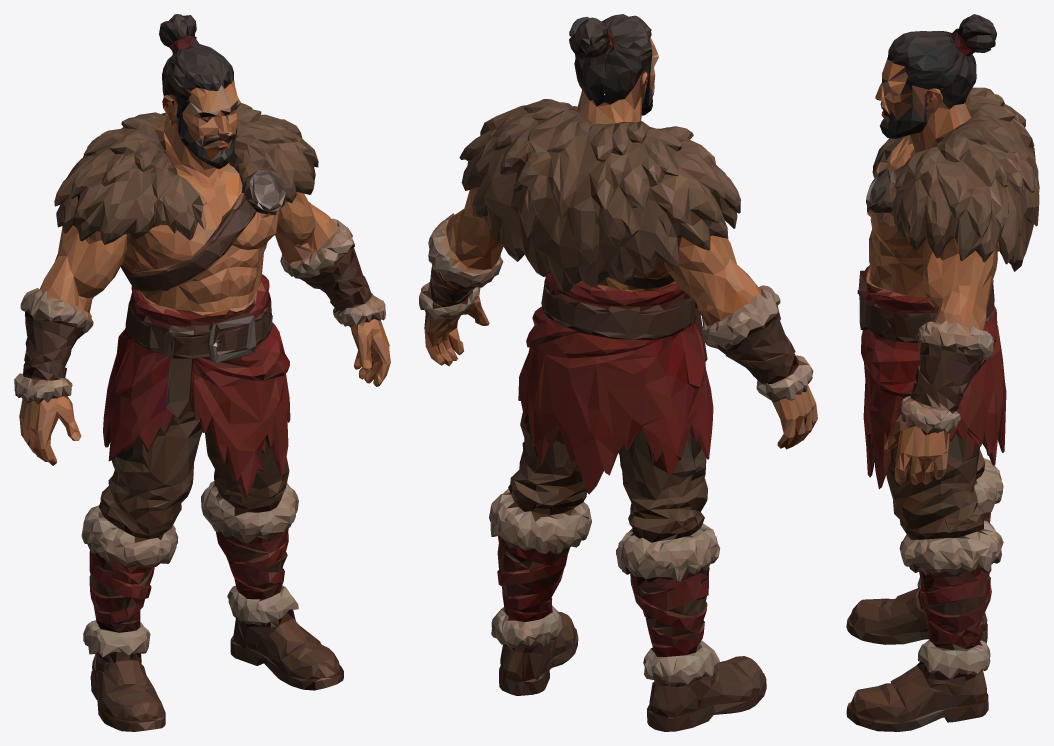
The model's file is barbarian.glb.
3 renders of one model, left to right at view 1: azimuth 30°, elevation 25°; view 2: azimuth 150°, elevation 25°; view 3: azimuth 270°, elevation 25°, orthographic. The views are drawn at different scales.
Parts seen in each view (by area): view 1: tripo_node_8e44cf5f; view 2: tripo_node_8e44cf5f; view 3: tripo_node_8e44cf5f.
Part boxes in pixels (x1=…): tripo_node_8e44cf5f: x1=14, y1=14, x2=390, y2=731; tripo_node_8e44cf5f: x1=419, y1=14, x2=817, y2=731; tripo_node_8e44cf5f: x1=846, y1=14, x2=1039, y2=731.
Bounding box in the file's own units: 1.17 × 2 × 0.5297.
